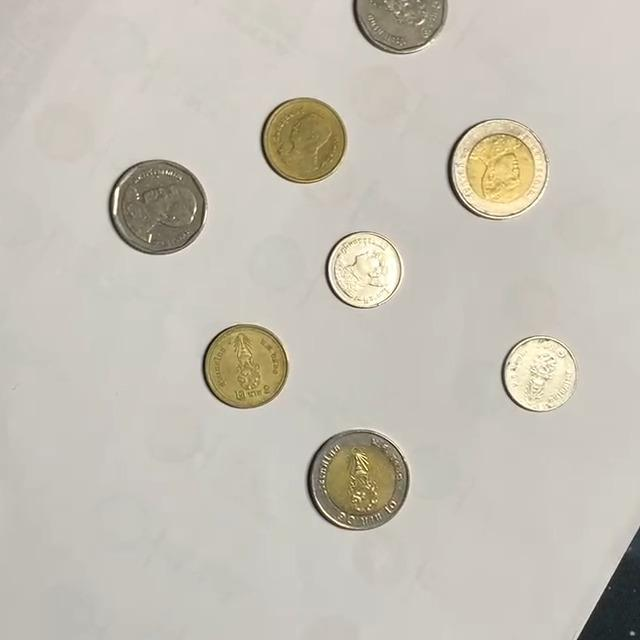1-baht: (327, 231, 406, 309), (503, 335, 581, 413)
10-baht: (309, 431, 412, 532), (450, 118, 551, 219)
2-baht: (262, 97, 349, 183), (204, 324, 290, 410)
5-baht: (110, 159, 209, 257), (354, 0, 451, 56)
